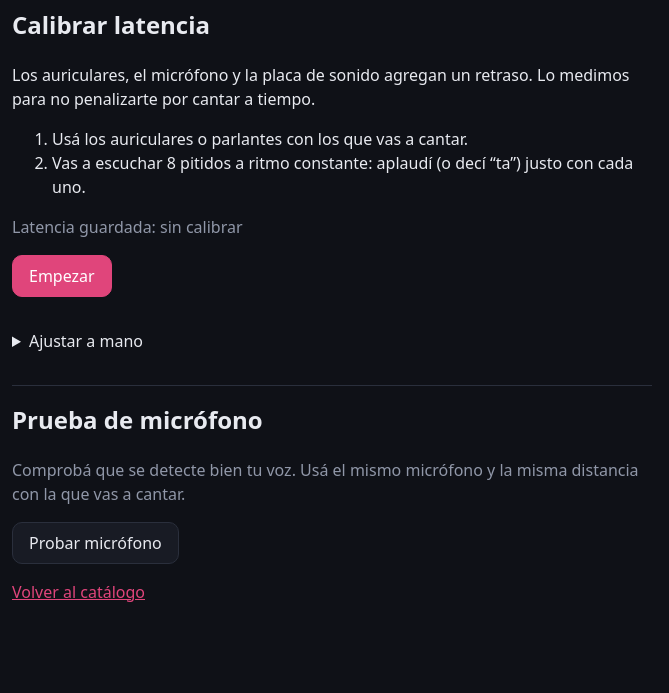
CalibrationPage › reports microphone errors
Click the button "Empezar" at (62, 276), box x1=12 y1=255 x2=112 y2=297
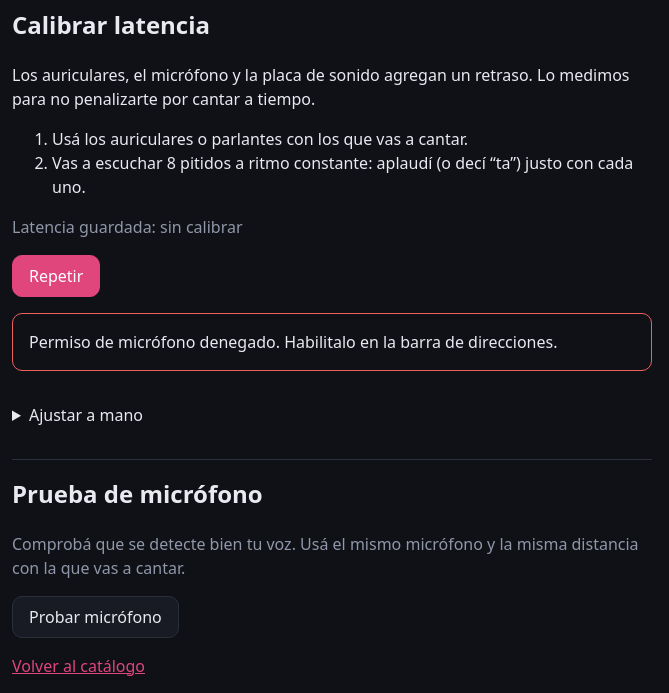
Expected: the message shows "Permiso de micrófono denegado", x1=29 y1=331 x2=557 y2=353
